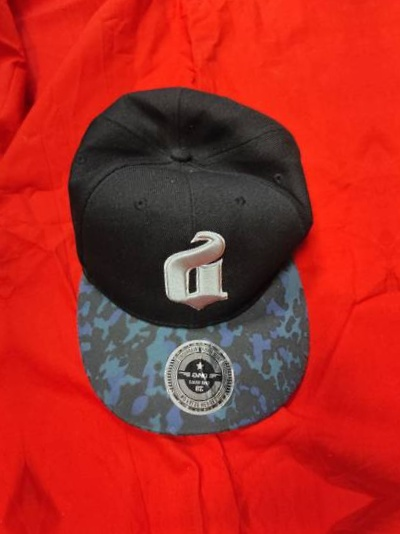Hat: (26, 41, 377, 453), (393, 0, 400, 409)
